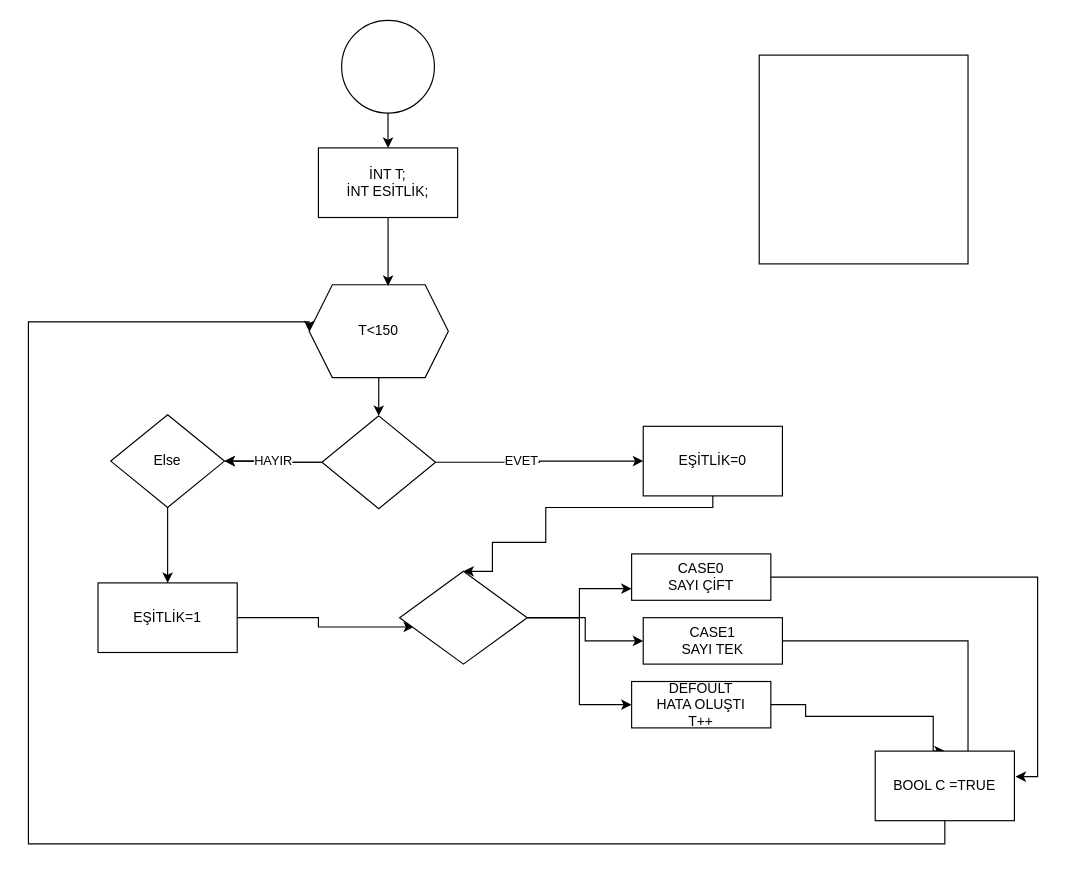
This 1067x873 diagram has some shape labels left out. Each missing label, with the centre of its shape:
Başla: the point at 387,66
SWİCH(EŞİTLİK): the point at 462,617
X[T]%2==0: the point at 378,462
YOL=15 NODE=12 DKARMASIKLIK=5: the point at 863,159
